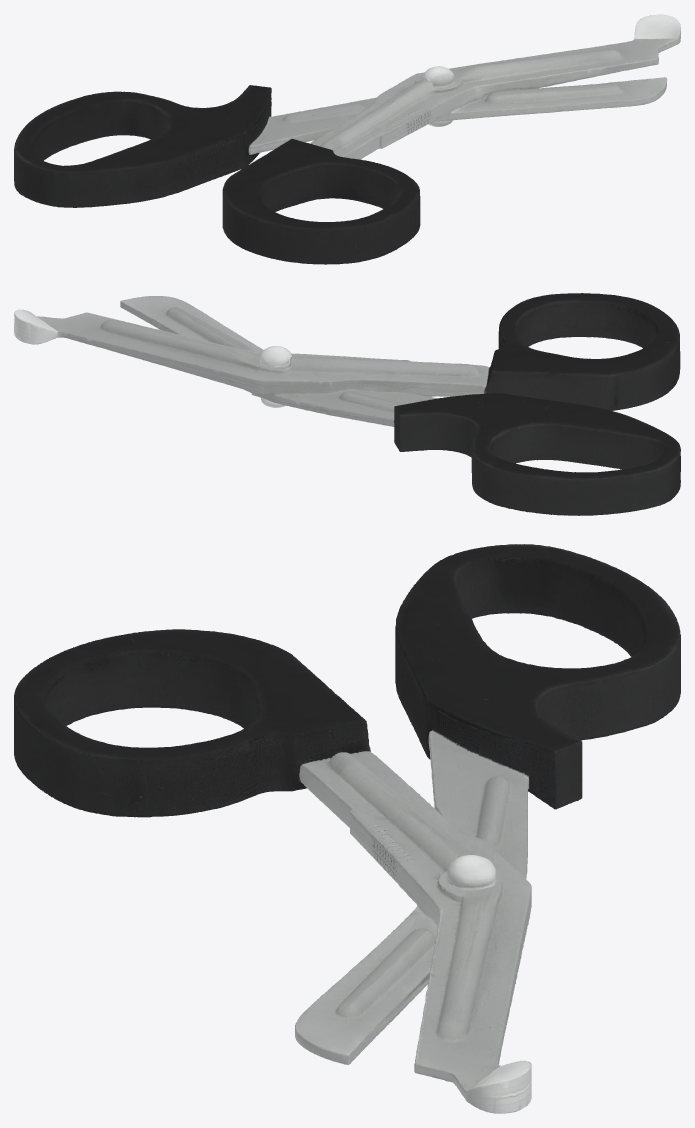
File: tactical_scissors.glb
3 renders of one model, top to bottom at view 1: azimuth 30°, elevation 25°; view 2: azimuth 150°, elevation 25°; view 3: azimuth 270°, elevation 25°, orthographic. The views are drawn at different scales.
Bounding box in the file's own units: 1.9 × 0.1568 × 1.04.
1 material, 1 textured.
